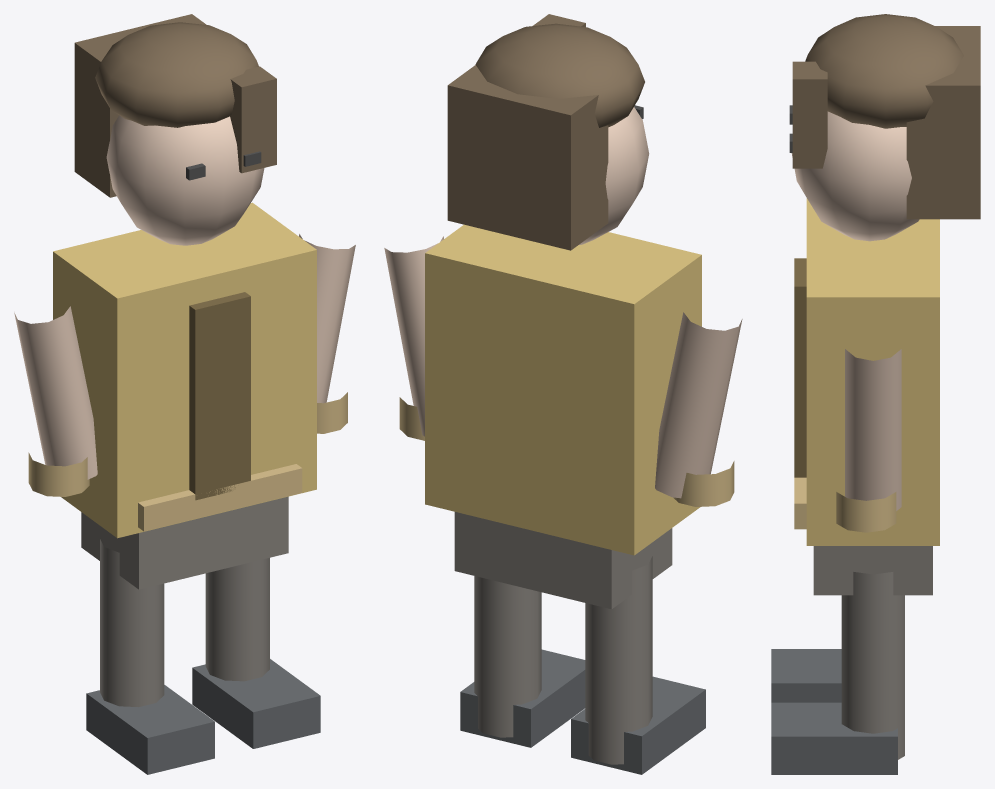
File: jayce.glb
3 renders of one model, left to right at view 1: azimuth 30°, elevation 25°; view 2: azimuth 150°, elevation 25°; view 3: azimuth 270°, elevation 25°, orthographic. The views are drawn at different scales.
Parts seen in each view (by area): view 1: Torso, Head, HairCap, Vest, Pelvis, ArmL, LegL, FootL, FootR, LegR, HairBack, Belt (+4 smaller); view 2: Torso, HairBack, Pelvis, HairCap, LegL, ArmL, LegR, FootL, FootR, ArmR, Head, CuffL (+1 smaller); view 3: Torso, HairCap, HairBack, Head, LegR, ArmR, FootR, Pelvis, FootL, HairLock, Vest, CuffR (+1 smaller).
Boxes of the visible parts, box(x1,y1,x2,y2) form: Torso: box(53, 202, 316, 538); Head: box(106, 115, 264, 245); HairCap: box(95, 22, 258, 127); Vest: box(189, 292, 250, 500); Pelvis: box(81, 496, 288, 589); ArmL: box(14, 306, 97, 479); LegL: box(100, 539, 164, 707); FootL: box(86, 685, 214, 774); FootR: box(192, 659, 320, 748); LegR: box(205, 558, 269, 681); HairBack: box(74, 14, 206, 197); Belt: box(138, 464, 302, 531); Torso: box(425, 224, 701, 555); HairBack: box(447, 65, 608, 250); Pelvis: box(454, 512, 672, 609); HairCap: box(475, 23, 644, 127); LegL: box(585, 556, 652, 764); ArmL: box(655, 312, 742, 498); LegR: box(474, 576, 541, 737); FootL: box(571, 676, 705, 774); FootR: box(460, 649, 585, 747); ArmR: box(384, 236, 443, 436); Head: box(579, 107, 649, 244); CuffL: box(673, 461, 734, 506); Torso: box(806, 198, 939, 545); HairCap: box(805, 14, 963, 128); HairBack: box(906, 26, 980, 219); Head: box(791, 111, 919, 241); LegR: box(841, 572, 904, 759); ArmR: box(845, 349, 901, 510); FootR: box(771, 702, 897, 774); Pelvis: box(813, 546, 932, 595); FootL: box(771, 649, 841, 702); HairLock: box(792, 61, 827, 168); Vest: box(794, 258, 806, 477); CuffR: box(836, 492, 896, 532).
Size of the model in its own units: 1.14 by 2.21 by 0.595.
